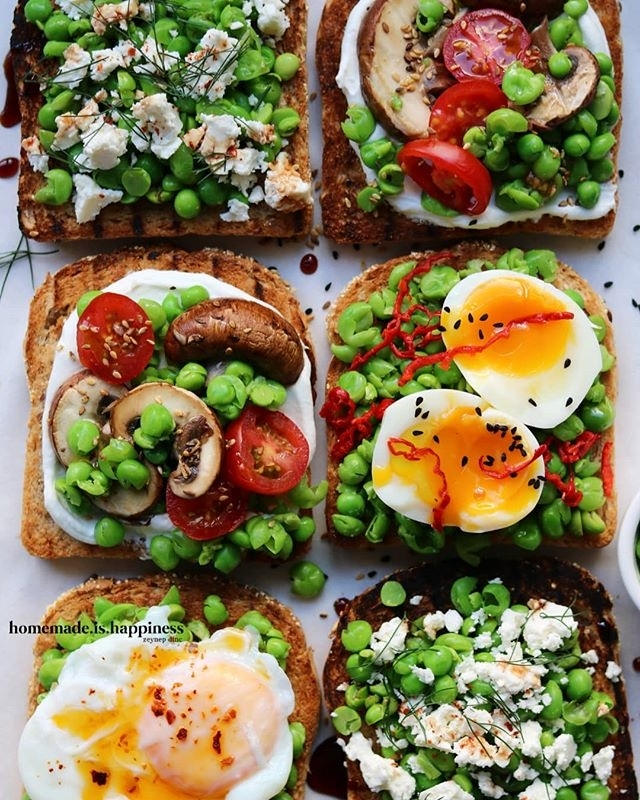boiled peas: (490, 122, 542, 202), (69, 418, 126, 470), (453, 583, 480, 625)
fried egg: (55, 636, 287, 786), (463, 280, 577, 422)
